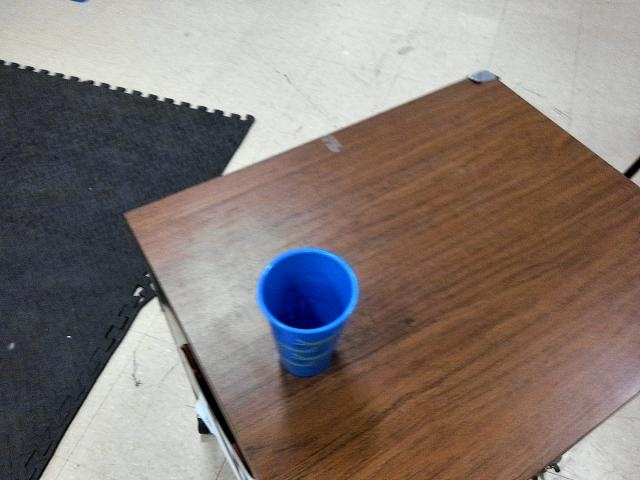water_cup: (250, 237, 364, 394)
